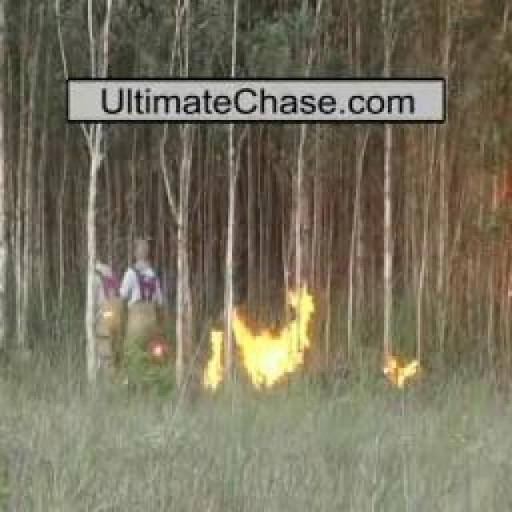smoke: (236, 302, 318, 388), (384, 354, 426, 392), (204, 333, 224, 392)
